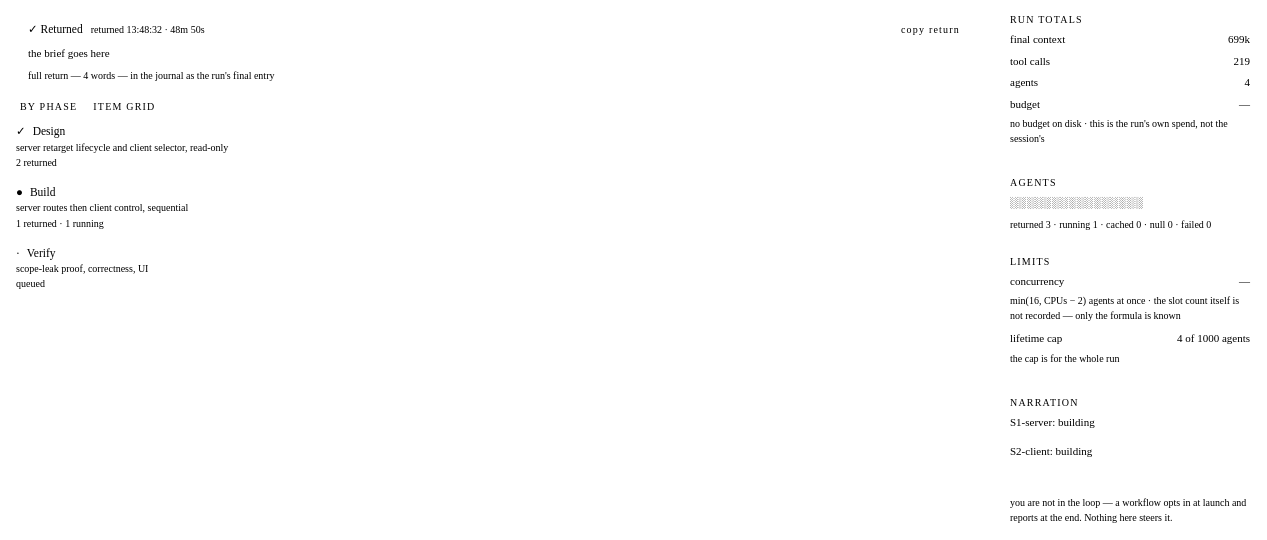
WorkflowRun › phases collapse once the run has returned (9-decisions.md row 4) › starts every phase collapsed once the run itself has returned, and reopens on click
Click the element with test id "wf-phase" that starts with "Design" at (122, 146), box [16, 124, 228, 168]
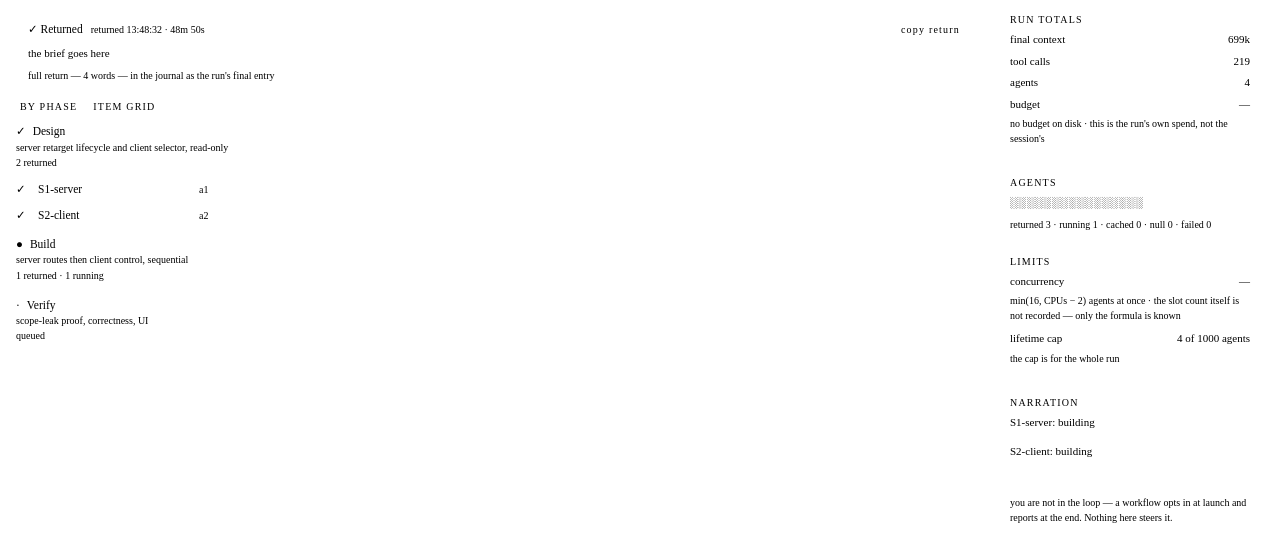
Check: the number of elements with test id "wf-name" is 2, box [38, 183, 82, 195]; [38, 209, 80, 221]
